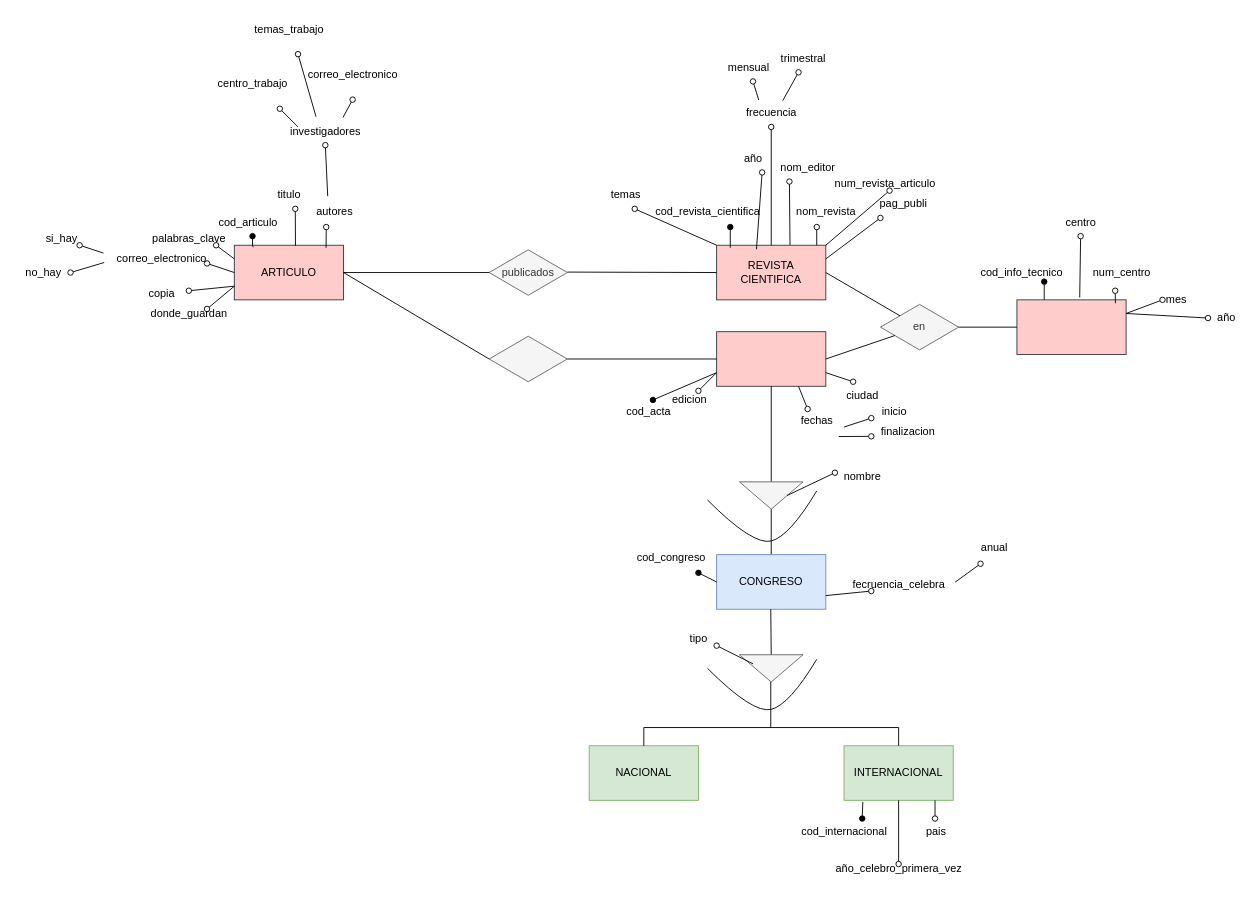
This 1259x897 diagram has some shape labels left out. The shapes that lost their labels are listed below. From the top down, each one's box as (x1, y1, x2, y2) in pixels, then its label:
(1016, 299, 1126, 354): INFORME TECNICO
(488, 335, 567, 382): puestos
(716, 331, 826, 386): ACTA
